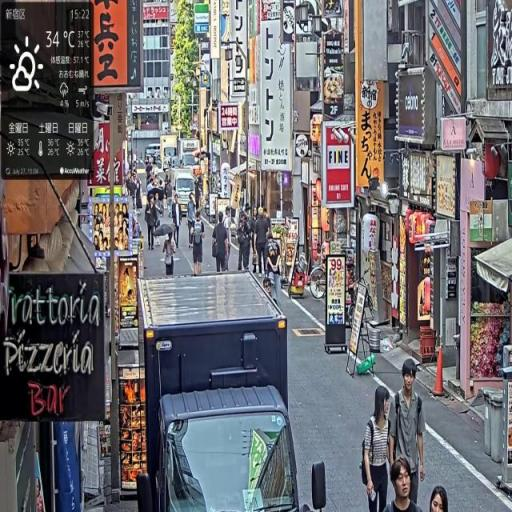person: (388, 359, 427, 508), (361, 386, 394, 512), (387, 454, 421, 512), (212, 212, 231, 276), (191, 209, 206, 278), (146, 192, 160, 254), (163, 231, 177, 278), (172, 193, 183, 251), (187, 192, 197, 249)
